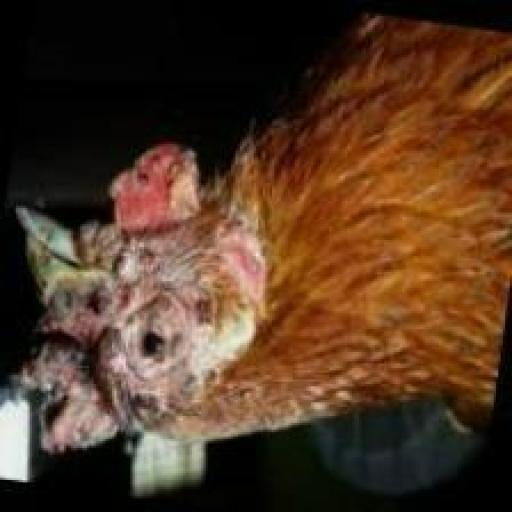disease: (0, 137, 286, 480)
